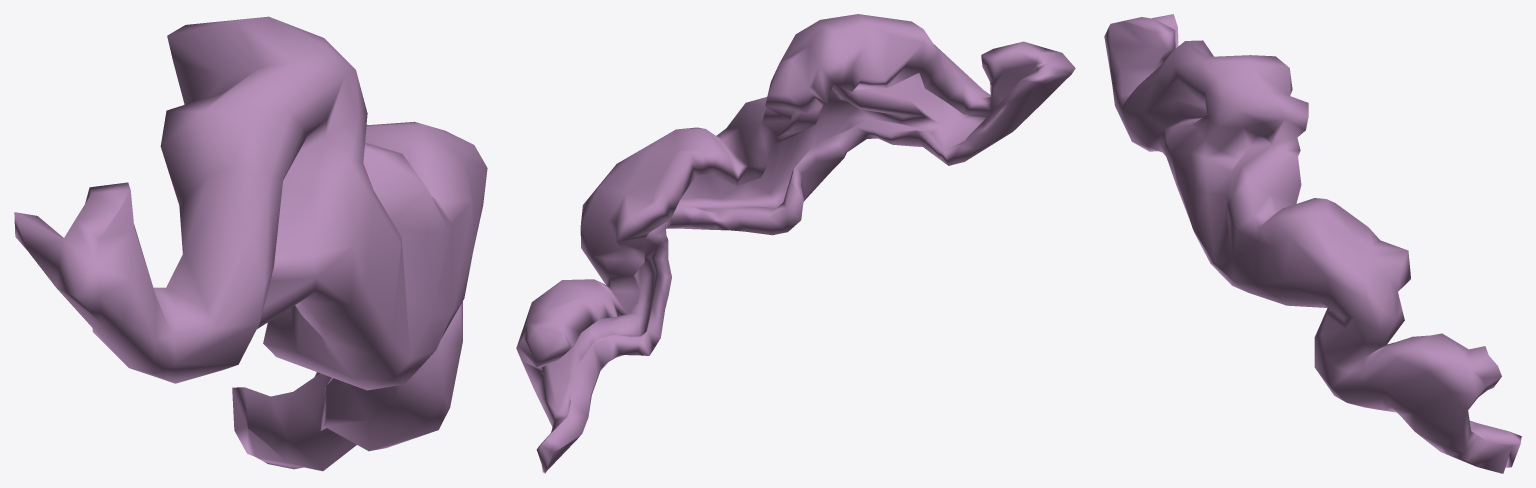
3 renders of one model, left to right at view 1: azimuth 30°, elevation 25°; view 2: azimuth 150°, elevation 25°; view 3: azimuth 270°, elevation 25°, orthographic. The views are drawn at different scales.
Visible parts, largest first — view 1: 左侧中央后回; view 2: 左侧中央后回; view 3: 左侧中央后回.
Part boxes in pixels (<box>): 左侧中央后回: <box>14,16,487,471</box>; 左侧中央后回: <box>516,14,1075,473</box>; 左侧中央后回: <box>1104,14,1521,473</box>.
Size of the model in its own units: 0.0777 by 0.0759 by 0.0822.
